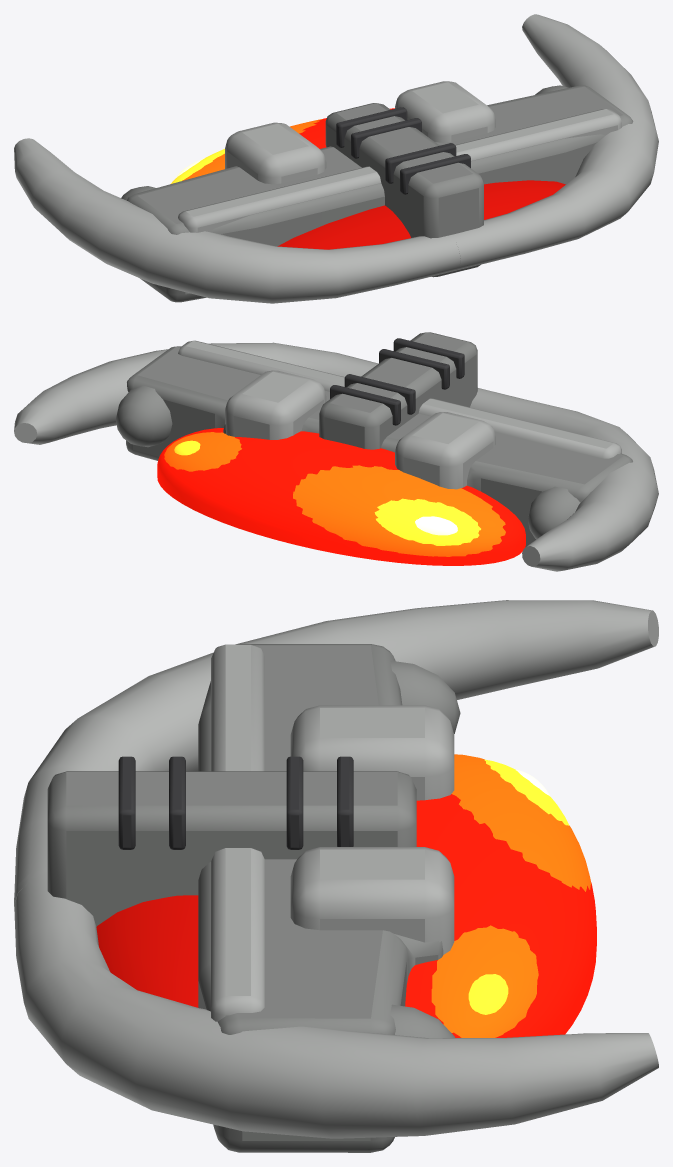
File: store_gun_10.glb
The picture shows the model from 3 angles, top to bottom: view 1: azimuth 30°, elevation 25°; view 2: azimuth 150°, elevation 25°; view 3: azimuth 270°, elevation 25°; orthographic projection. The views are drawn at different scales.
Parts seen in each view (by area): view 1: steel_light, steel, bowl_bottom, steel_dark, fire_warm, bowl_top; view 2: steel_light, steel, bowl_top, fire_warm, fire_hot, steel_dark, bowl_spot_2; view 3: steel_light, steel, bowl_top, fire_warm, bowl_bottom, steel_dark, fire_hot.
Boxes of the visible parts, bbox=[...] form: steel_light: bbox=[14, 14, 658, 303]; steel: bbox=[121, 85, 633, 302]; bowl_bottom: bbox=[277, 180, 565, 249]; steel_dark: bbox=[336, 107, 470, 194]; fire_warm: bbox=[182, 119, 322, 180]; bowl_top: bbox=[299, 108, 394, 148]; steel_light: bbox=[14, 340, 658, 571]; steel: bbox=[115, 332, 632, 546]; bowl_top: bbox=[157, 428, 525, 565]; fire_warm: bbox=[164, 432, 505, 556]; fire_hot: bbox=[174, 440, 480, 545]; steel_dark: bbox=[330, 338, 464, 425]; bowl_spot_2: bbox=[415, 516, 457, 535]; steel_light: bbox=[14, 600, 658, 1138]; steel: bbox=[47, 644, 460, 1152]; bowl_top: bbox=[405, 794, 596, 1037]; fire_warm: bbox=[431, 754, 591, 1037]; bowl_bottom: bbox=[96, 895, 198, 1007]; steel_dark: bbox=[118, 756, 353, 849]; fire_hot: bbox=[468, 759, 569, 1014].
Size of the model in its own units: 54.2 by 9.7 by 30.76.
